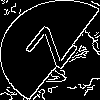Z: (25, 25, 90, 76)
